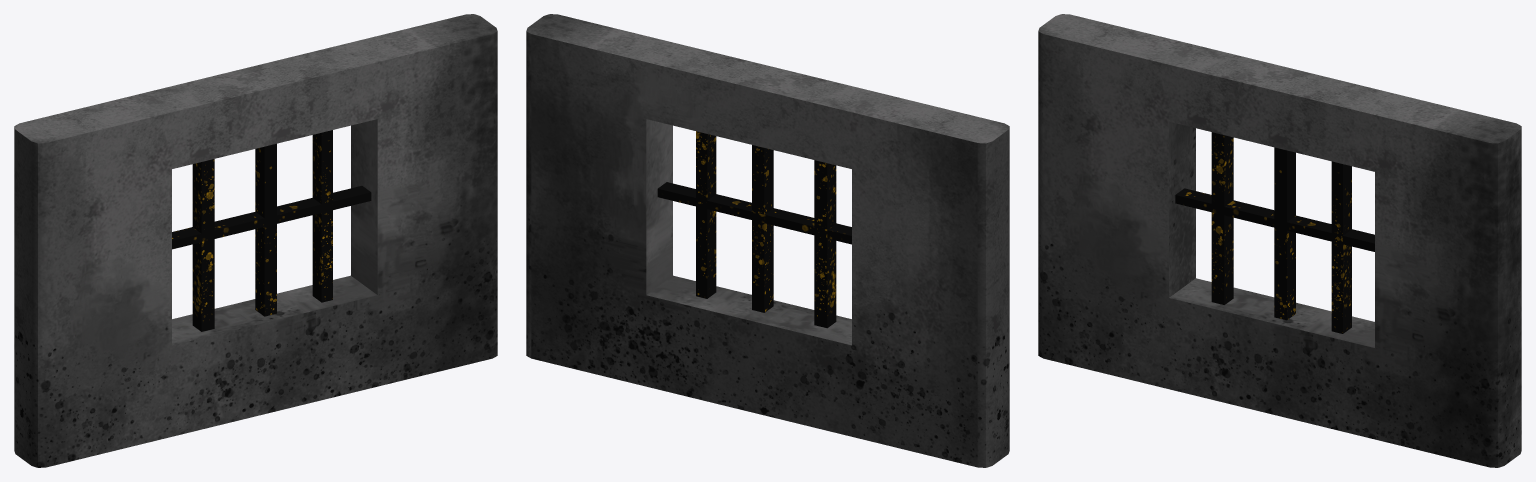
The model's file is MR_Wall_L_Win_Text.fbx.
3 renders of one model, left to right at view 1: azimuth 30°, elevation 25°; view 2: azimuth 150°, elevation 25°; view 3: azimuth 330°, elevation 25°, orthographic.
Parts seen in each view (by area): view 1: pasted__pasted__pasted__M_Wall_Single; view 2: pasted__pasted__pasted__M_Wall_Single; view 3: pasted__pasted__pasted__M_Wall_Single.
Boxes of the visible parts, box(x1,y1,x2,y2) form: pasted__pasted__pasted__M_Wall_Single: box(14, 14, 497, 467); pasted__pasted__pasted__M_Wall_Single: box(526, 14, 1009, 467); pasted__pasted__pasted__M_Wall_Single: box(1038, 14, 1521, 467).
Bounding box in the file's own units: 150 × 100 × 15.
1 material, 1 textured.
